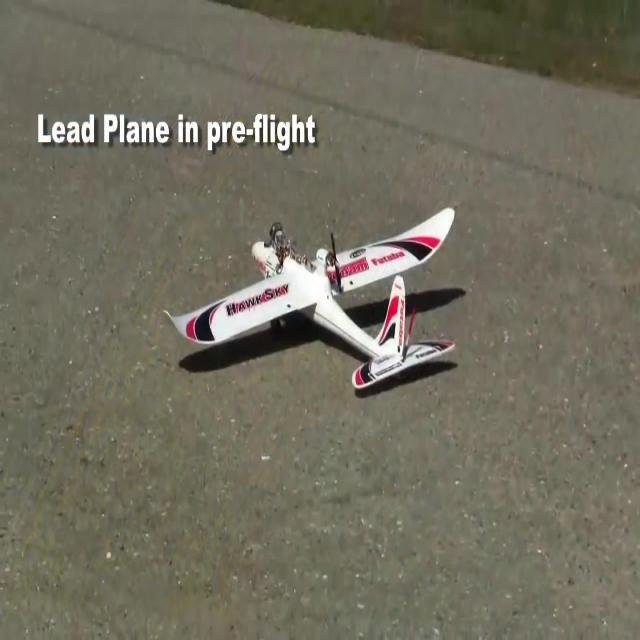iha: (162, 200, 459, 397)
